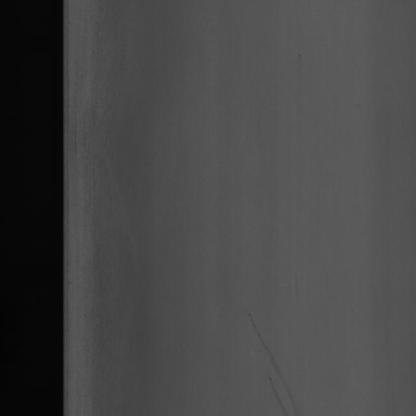water_spot: (245, 322, 296, 416)
